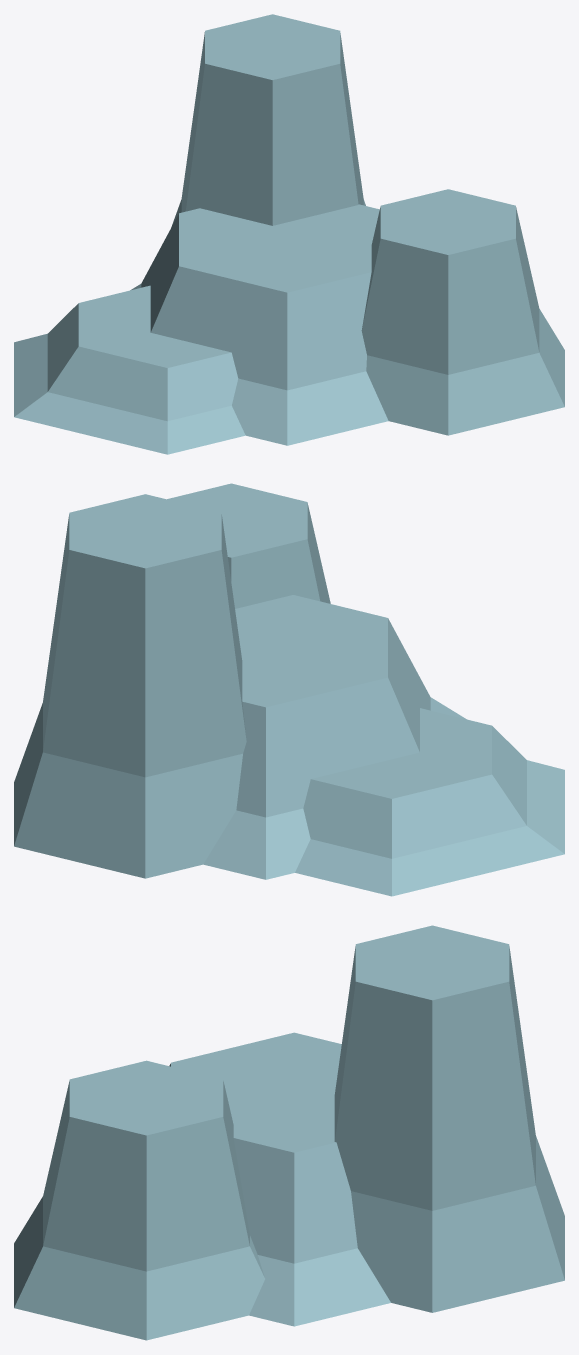
Rendered from rocks.obj.
3 views of the same model, one above another, from view 1: azimuth 30°, elevation 25°; view 2: azimuth 150°, elevation 25°; view 3: azimuth 270°, elevation 25° (orthographic). The views are drawn at different scales.
Parts seen in each view (by area): view 1: rocks; view 2: rocks; view 3: rocks.
Boxes of the visible parts, x1=… form: rocks: x1=14, y1=14, x2=564, y2=454; rocks: x1=14, y1=483, x2=564, y2=896; rocks: x1=14, y1=925, x2=564, y2=1340.
Bounding box in the file's own units: 0.9342 × 0.4657 × 0.8148.
